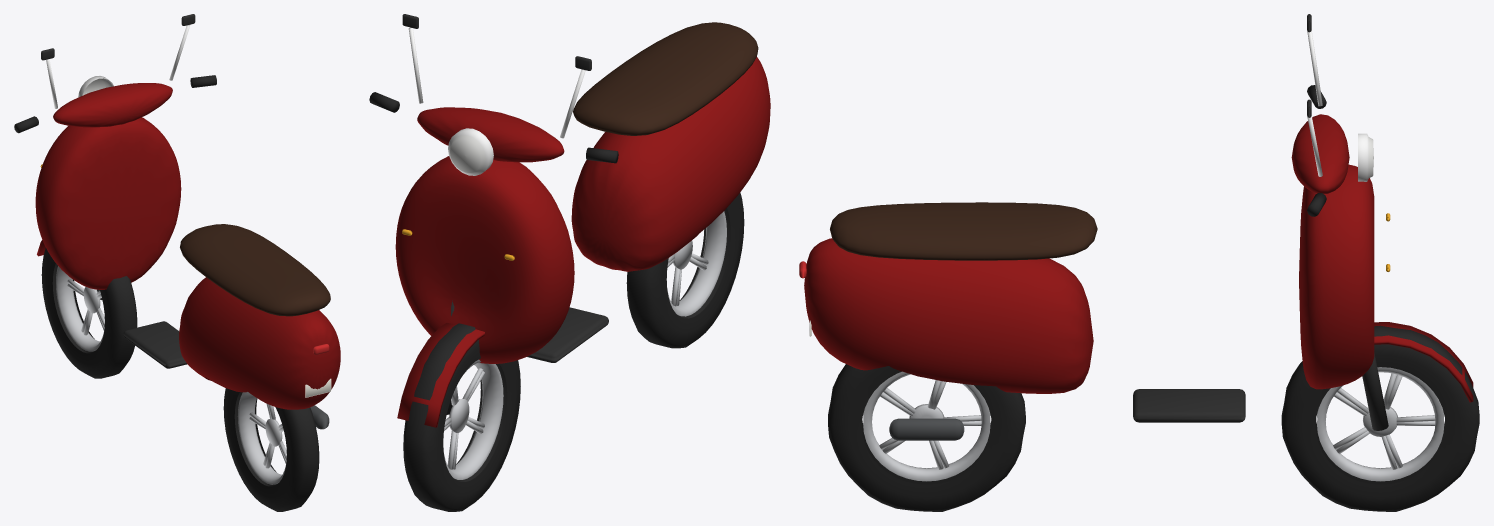
File: scooter_2.glb
3 renders of one model, left to right at view 1: azimuth 30°, elevation 25°; view 2: azimuth 150°, elevation 25°; view 3: azimuth 270°, elevation 25°, orthographic. The views are drawn at different scales.
Visible parts, largest first — view 1: body, wheel_1, wheel_0; view 2: body, wheel_0, wheel_1; view 3: body, wheel_0, wheel_1.
Boxes of the visible parts, x1=… form: body: x1=14, y1=14, x2=340, y2=429; wheel_1: x1=223, y1=388, x2=319, y2=511; wheel_0: x1=41, y1=248, x2=137, y2=378; body: x1=369, y1=14, x2=770, y2=427; wheel_0: x1=403, y1=323, x2=520, y2=511; wheel_1: x1=626, y1=192, x2=744, y2=348; body: x1=799, y1=14, x2=1473, y2=440; wheel_0: x1=1281, y1=325, x2=1479, y2=511; wheel_1: x1=828, y1=364, x2=1025, y2=511.
Bounding box in the file's own units: 0.7682 × 1.32 × 1.81.
